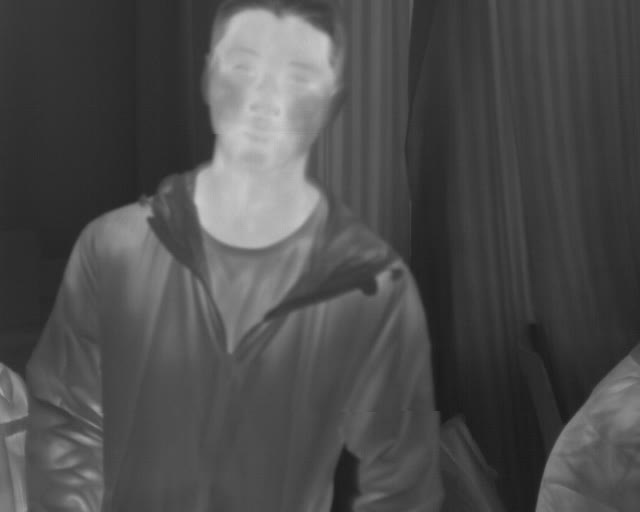face: (201, 1, 345, 169)
